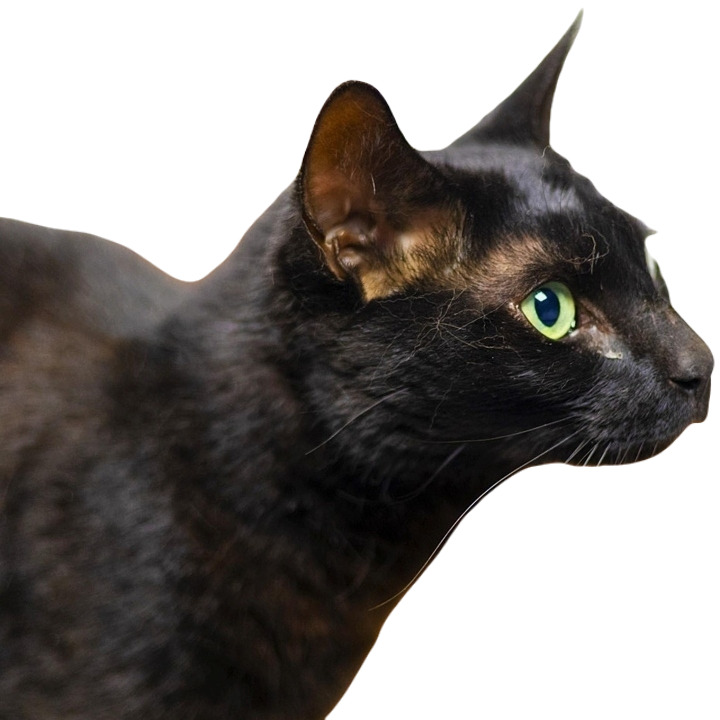Cat: (2, 1, 719, 712)
